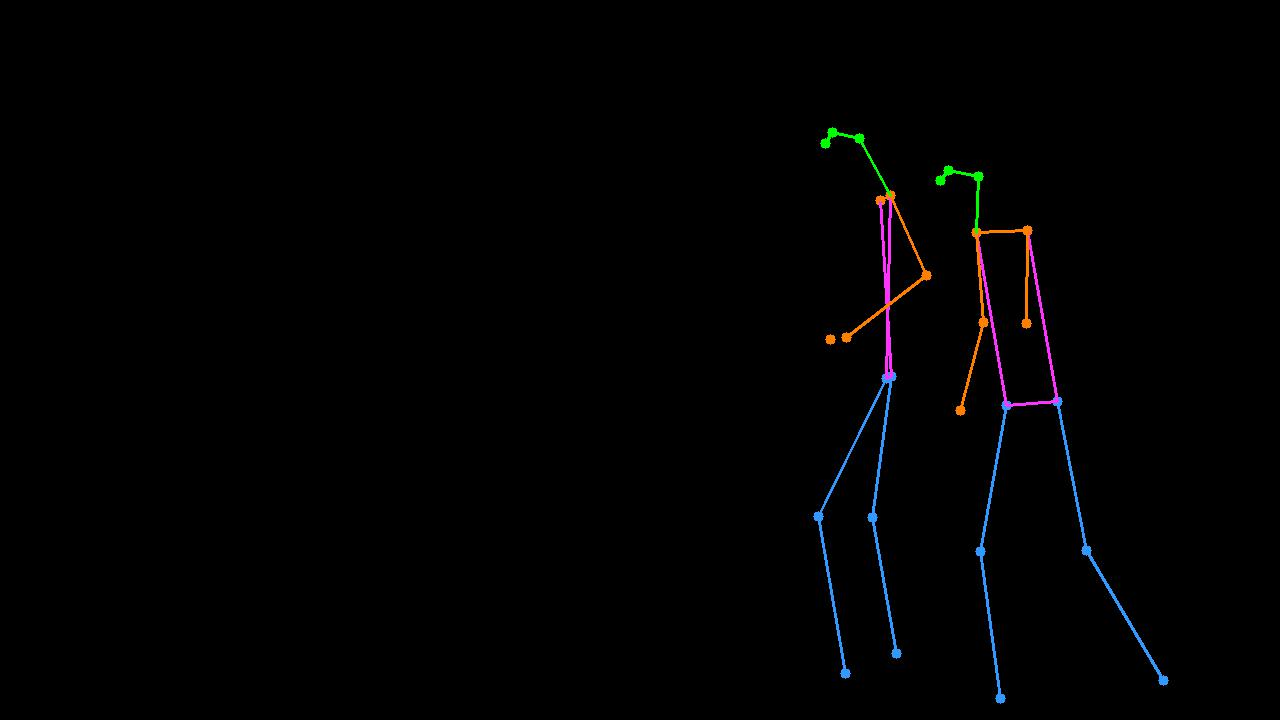normal: (938, 128, 1200, 720), (800, 98, 939, 720)
